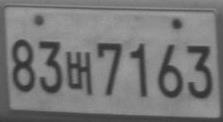1: (127, 43, 153, 97)
3: (186, 44, 213, 98), (39, 40, 62, 93)
6: (157, 43, 183, 98)
7: (97, 41, 122, 95)
8: (11, 38, 35, 92)
버: (65, 51, 93, 94)
